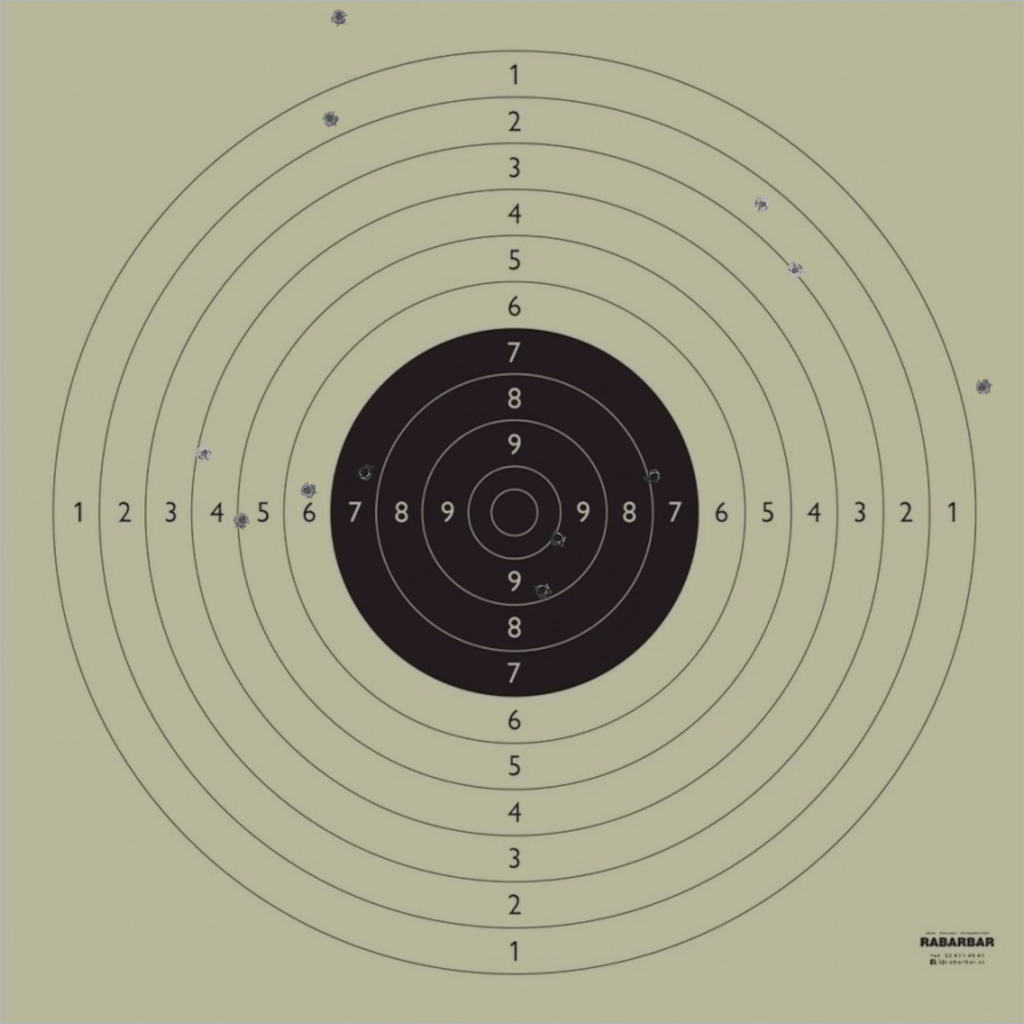0 punktow: (974, 378, 992, 396)
1 punkt: (321, 109, 339, 128)
10 punktow: (549, 529, 567, 547)
2 punkty: (753, 195, 772, 214)
3 punkty: (786, 261, 804, 279)
4 punkty: (195, 444, 214, 462)
5 punktow: (233, 511, 251, 529)
6 punktow: (299, 481, 317, 500)
7 punktow: (356, 463, 374, 482)
8 punktow: (644, 468, 663, 486)
9 punktow: (533, 581, 552, 599)
